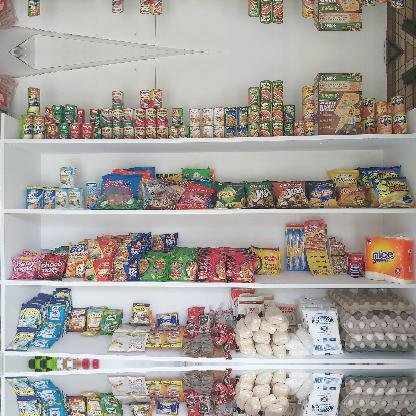Koko-Krunch: (314, 72, 362, 136), (314, 0, 363, 32)
